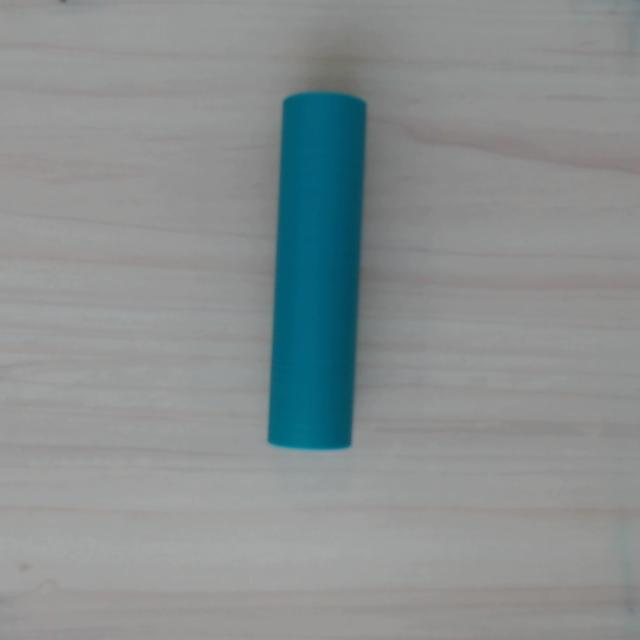Silinder-Hijau-10025: (267, 90, 367, 451)
